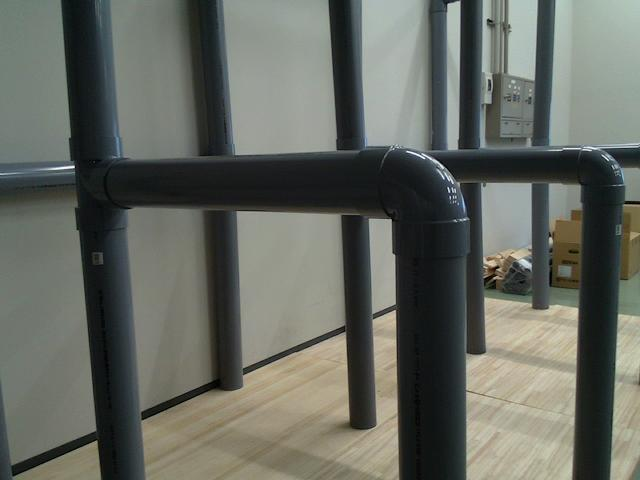bent: (350, 145, 470, 263), (560, 144, 626, 206)
junction: (68, 137, 134, 232)
